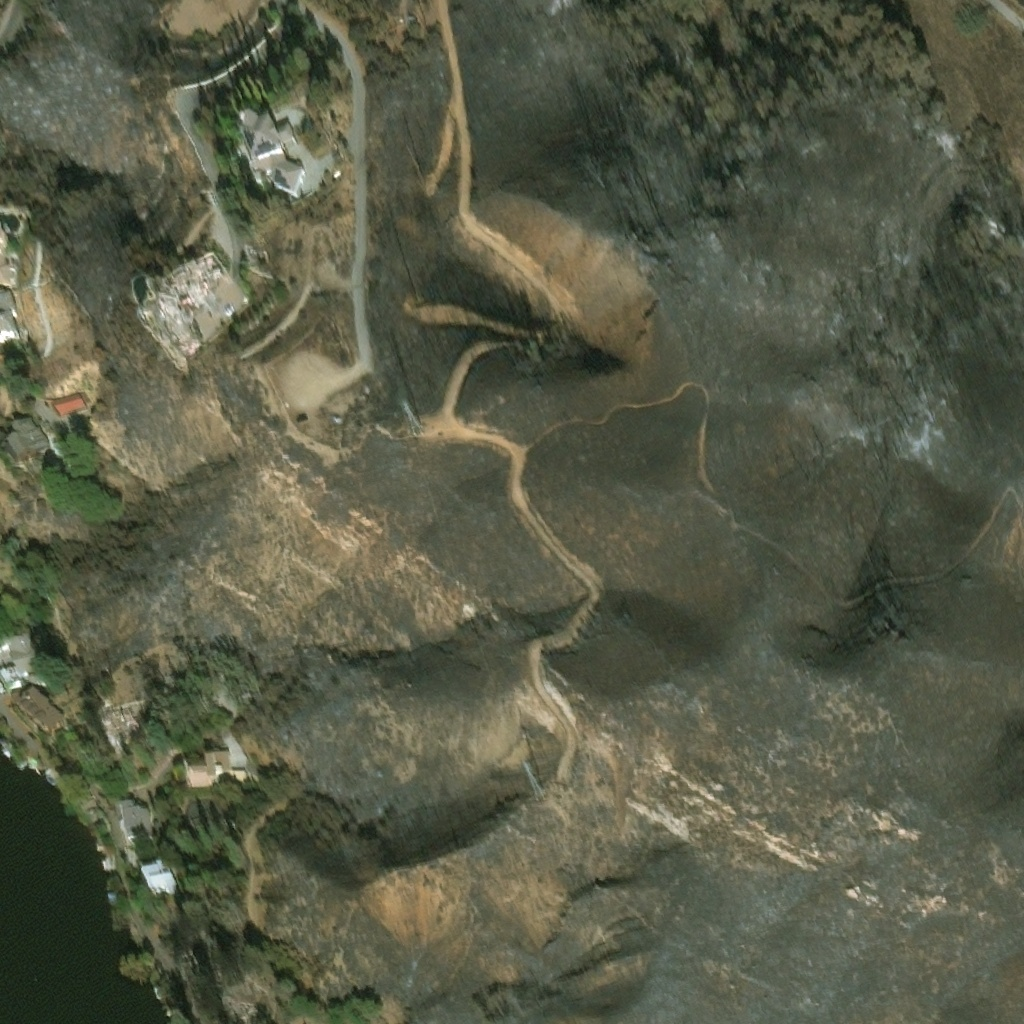0 no-damage: (239, 122, 306, 193), (6, 681, 65, 736), (184, 746, 244, 788), (5, 413, 51, 463), (185, 803, 227, 844), (142, 860, 182, 898), (118, 794, 153, 836), (46, 378, 86, 410), (405, 11, 413, 21)
3 destroyed: (150, 254, 248, 354), (101, 703, 143, 750)
4 un-classified: (64, 740, 86, 760), (224, 1006, 249, 1023), (199, 955, 217, 971)
